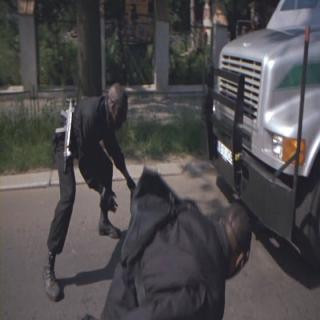gun: (54, 94, 77, 175)
